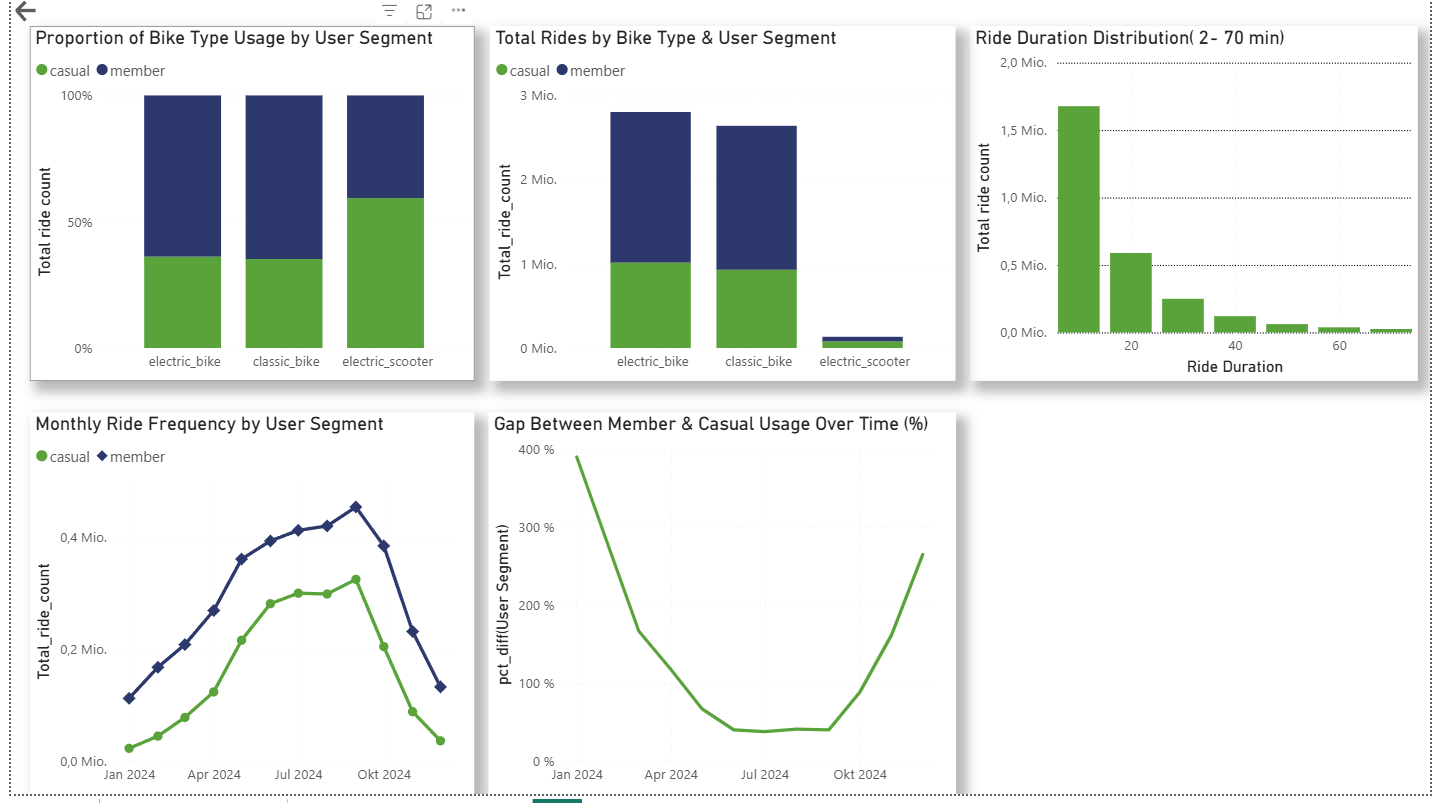

The dashboard page shown, as its layout file describes it:
{"tool":"powerbi","page":{"name":"Cyclistic Bike-Usage Analysis","canvas":[1280,720],"ordinal":1},"visuals":[{"type":"clusteredColumnChart","title":"Ride Duration Distribution( 2- 70 min)","fields":{"Category":["cleaned_data.ride_duration_min (Container)"],"Y":["cleaned_data.Total_ride_count"]},"box":[864.2,27.4,404,320.3],"z":7000},{"type":"hundredPercentStackedColumnChart","title":"Proportion of Bike Type Usage by User Segment","fields":{"Category":["cleaned_data.rideable_type"],"Series":["cleaned_data.member_casual"],"Y":["cleaned_data.Total_ride_count"]},"box":[17.3,27.4,401.1,320.3],"z":8000},{"type":"columnChart","title":"Total Rides by Bike Type & User Segment","fields":{"Category":["cleaned_data.rideable_type"],"Series":["cleaned_data.member_casual"],"Y":["cleaned_data.Total_ride_count"]},"box":[431.4,27.4,419.8,320.3],"z":9000},{"type":"actionButton","box":[0,0,99.5,27.4],"z":9001},{"type":"lineChart","title":"Monthly Ride Frequency by User Segment","fields":{"Category":["cleaned_data.date.Variation.Datumshierarchie.Jahr","cleaned_data.date.Variation.Datumshierarchie.Monat"],"Series":["cleaned_data.member_casual"],"Y":["cleaned_data.Total_ride_count"]},"box":[17.4,375.7,400.6,344.6],"z":9002},{"type":"lineChart","title":"Gap Between Member & Casual Usage Over Time (%)","fields":{"Category":["cleaned_data.date.Variation.Datumshierarchie.Jahr","cleaned_data.date.Variation.Datumshierarchie.Monat"],"Y":["cleaned_data.pct_diff(User Segment)"]},"box":[430.4,375.7,421.7,344.6],"z":9003}]}

Visuals, with their boxes in screenshot pixels (x1, y1, x2, y2):
"Ride Duration Distribution( 2- 70 min)" clusteredColumnChart: bbox=[968, 30, 1412, 382]
"Proportion of Bike Type Usage by User Segment" hundredPercentStackedColumnChart: bbox=[38, 30, 479, 382]
"Total Rides by Bike Type & User Segment" columnChart: bbox=[493, 30, 954, 382]
actionButton: bbox=[19, 0, 128, 30]
"Monthly Ride Frequency by User Segment" lineChart: bbox=[38, 413, 478, 791]
"Gap Between Member & Casual Usage Over Time (%)" lineChart: bbox=[492, 413, 955, 791]
